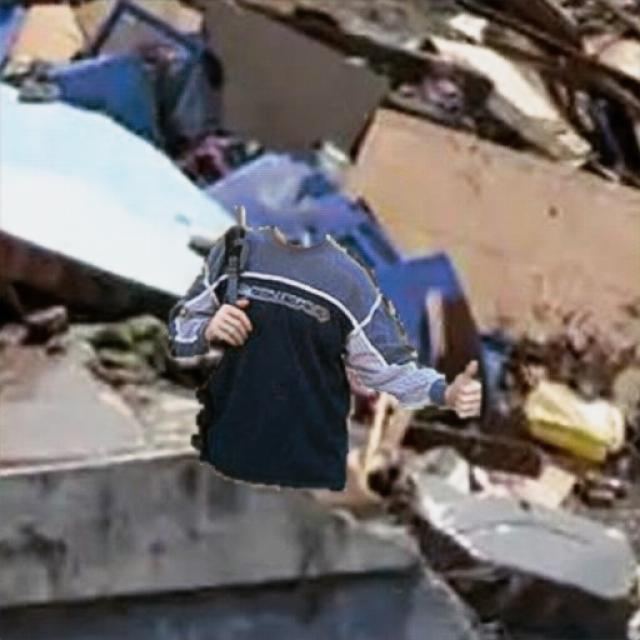Person in Rubble: (169, 206, 480, 490)
